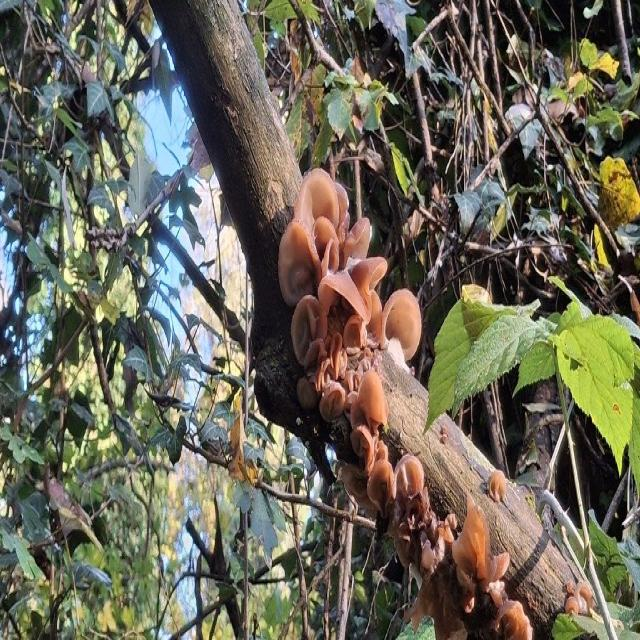Fase Muda: (451, 490, 510, 621), (316, 256, 388, 326), (277, 217, 323, 309), (294, 164, 341, 244), (289, 294, 330, 371), (380, 288, 422, 362), (348, 426, 389, 474), (311, 213, 341, 278), (339, 460, 373, 516), (357, 368, 388, 426), (494, 597, 534, 640), (393, 453, 426, 504), (342, 215, 372, 269), (366, 456, 392, 518), (320, 380, 344, 424), (366, 288, 382, 348), (343, 315, 365, 356), (320, 237, 340, 278), (488, 468, 508, 502), (576, 580, 594, 615)
primordia: (564, 596, 578, 617), (566, 579, 573, 595), (442, 434, 448, 446), (442, 424, 448, 434)
